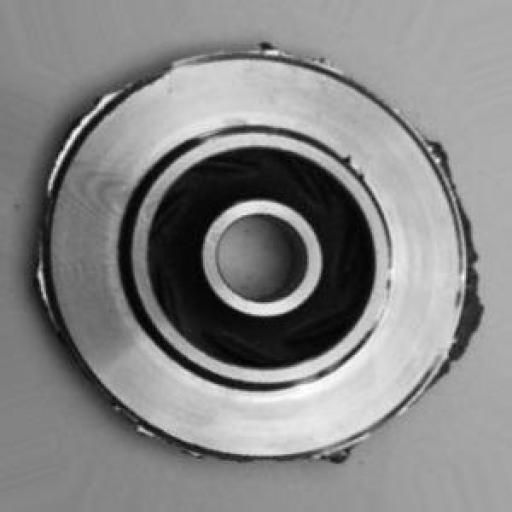defect: (35, 27, 493, 477)
